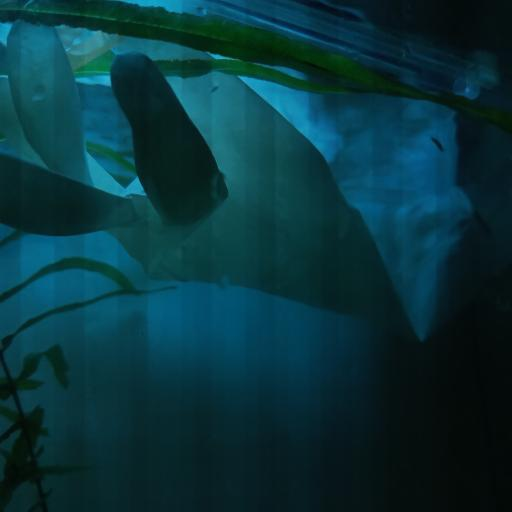glove: (0, 0, 512, 343)
plastic_straw: (204, 0, 512, 106), (242, 0, 512, 87)
